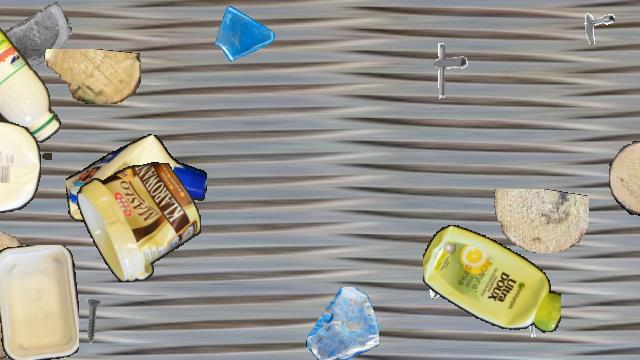glass: (306, 287, 378, 359), (0, 1, 72, 73), (213, 1, 277, 65)
metal: (416, 40, 476, 100), (10, 247, 70, 307), (68, 297, 116, 345), (423, 255, 469, 301), (515, 301, 559, 345), (573, 2, 615, 44)
plastic: (423, 221, 561, 337), (76, 162, 200, 282), (66, 133, 206, 229), (0, 1, 62, 159), (0, 245, 79, 359), (0, 118, 40, 222)
wood: (491, 189, 589, 253), (43, 49, 141, 103), (0, 247, 33, 359), (0, 230, 31, 314), (609, 141, 640, 217)
